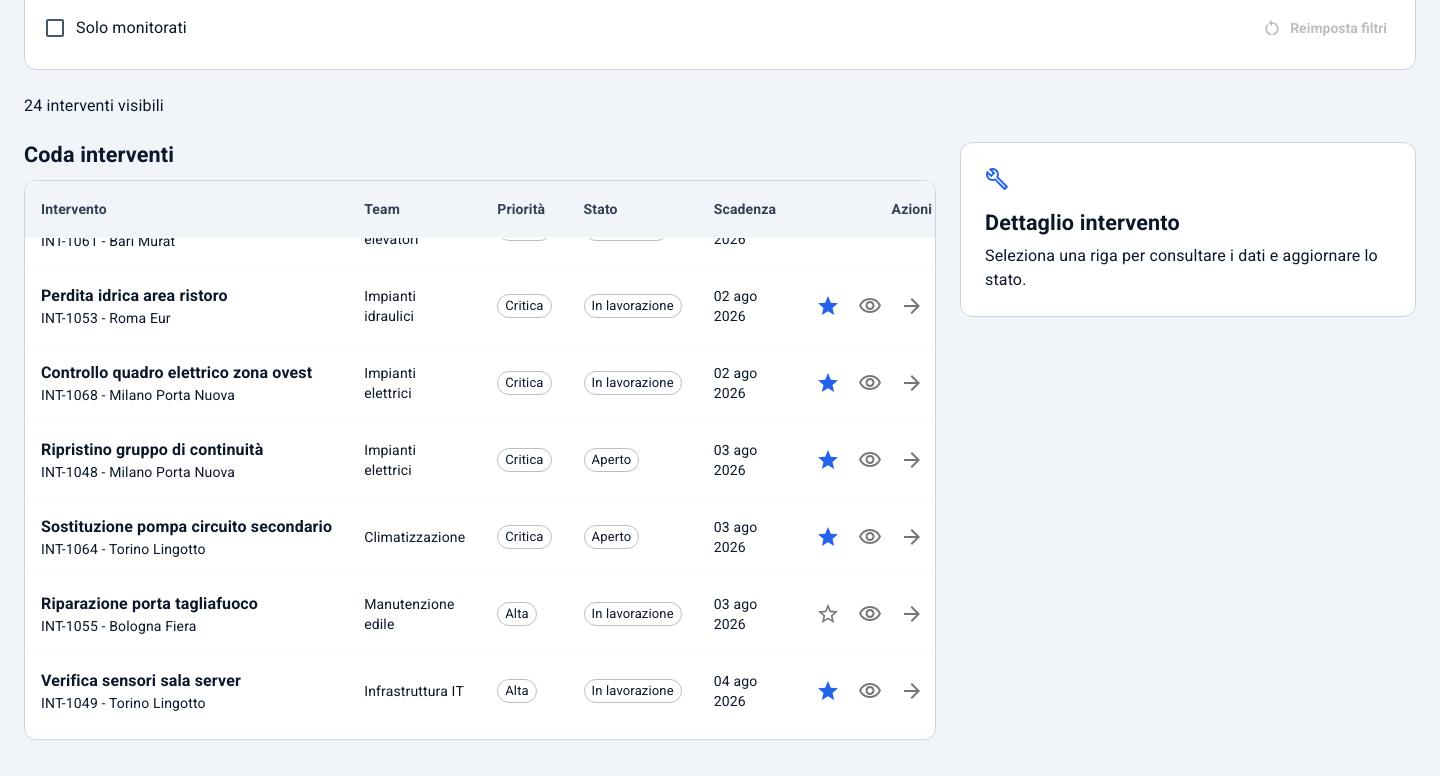
Scenario: Coda interventi scalabile › chiude il dettaglio se la ricerca nasconde il record selezionato
(page scrolled)
Click the button named "Mostra dettaglio INT-1048" at (870, 460), box [850,440,890,480]
(page scrolled)
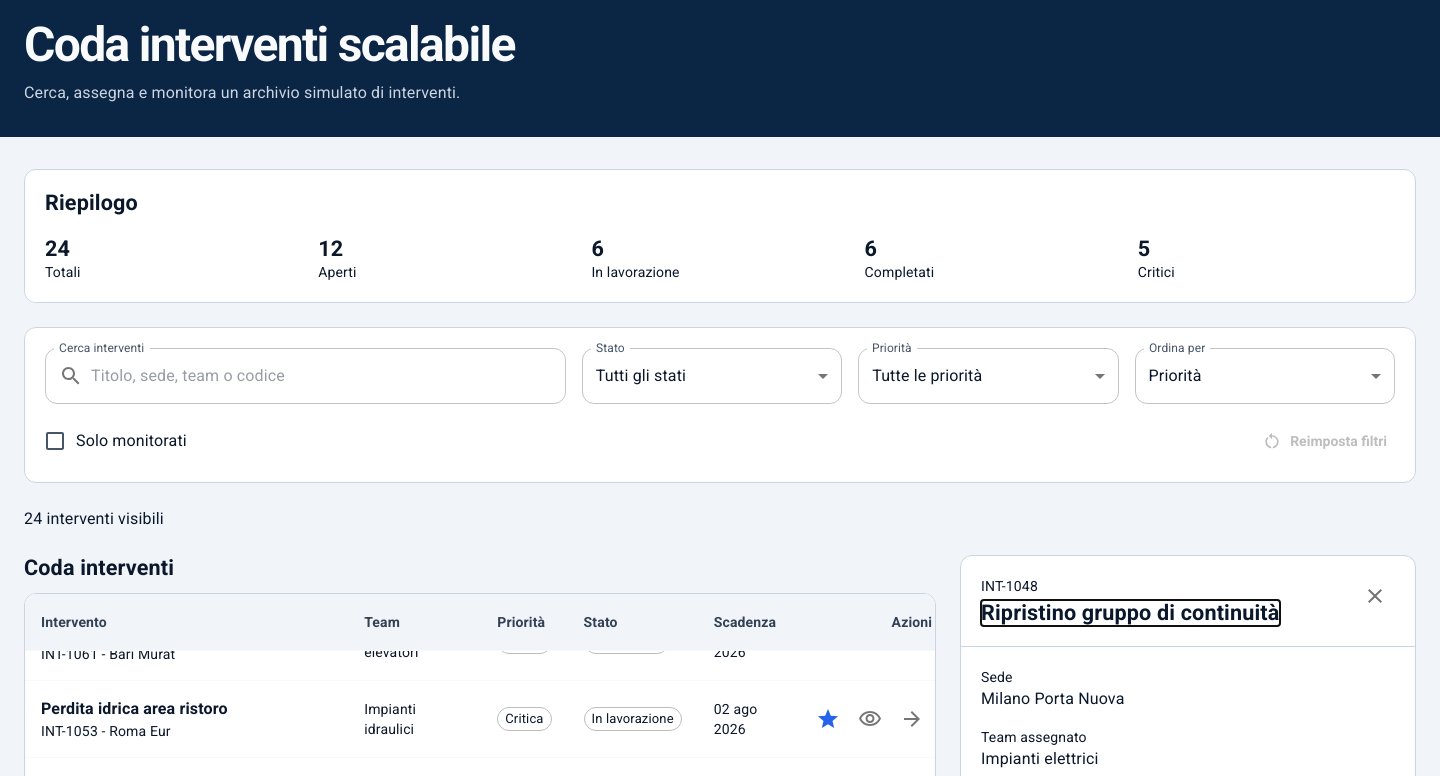
Type "serratura ingresso nord" into the field labelled "Cerca interventi" at (328, 376), box [91,348,566,404]
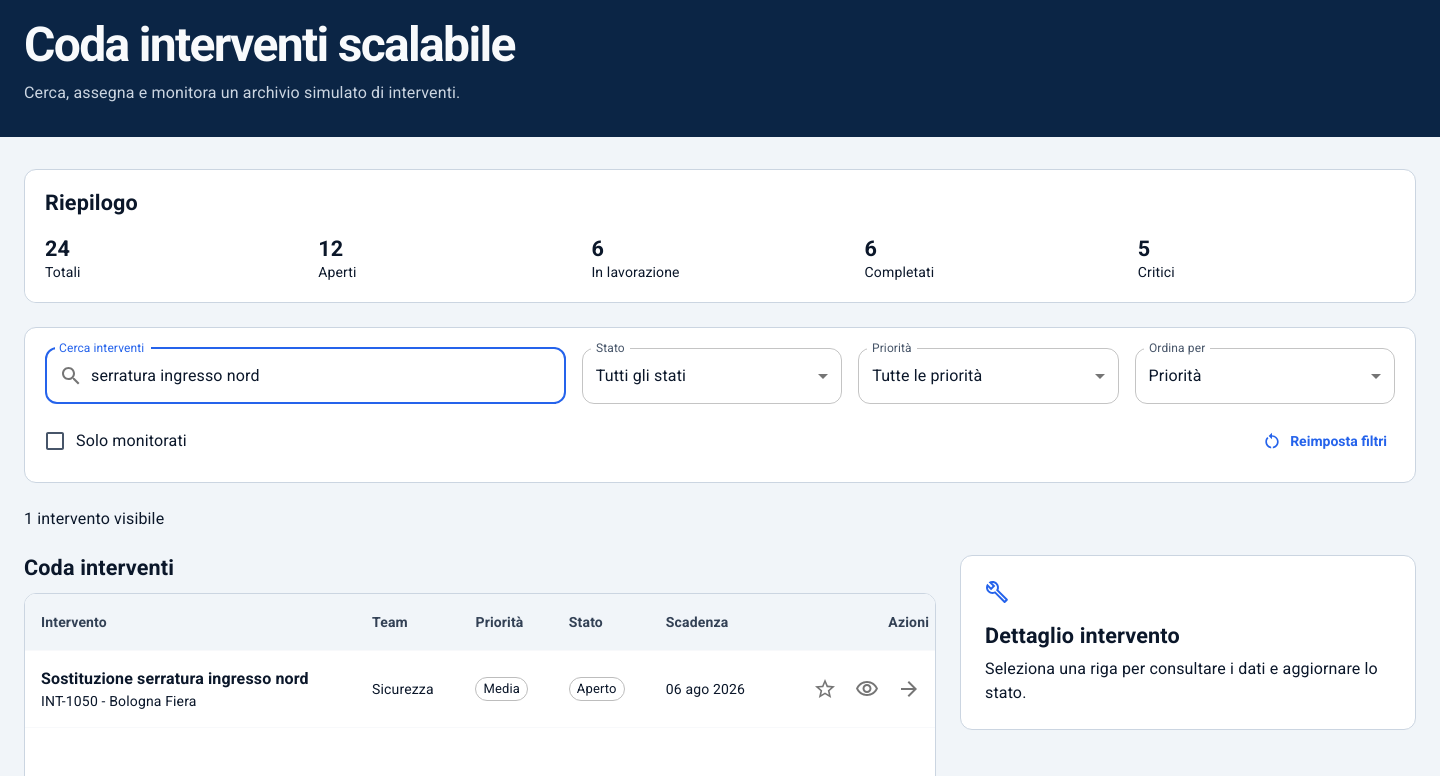
Now the text "Seleziona una riga per consultare i dati e aggiornare lo stato." is shown, box [985,657,1391,705]
